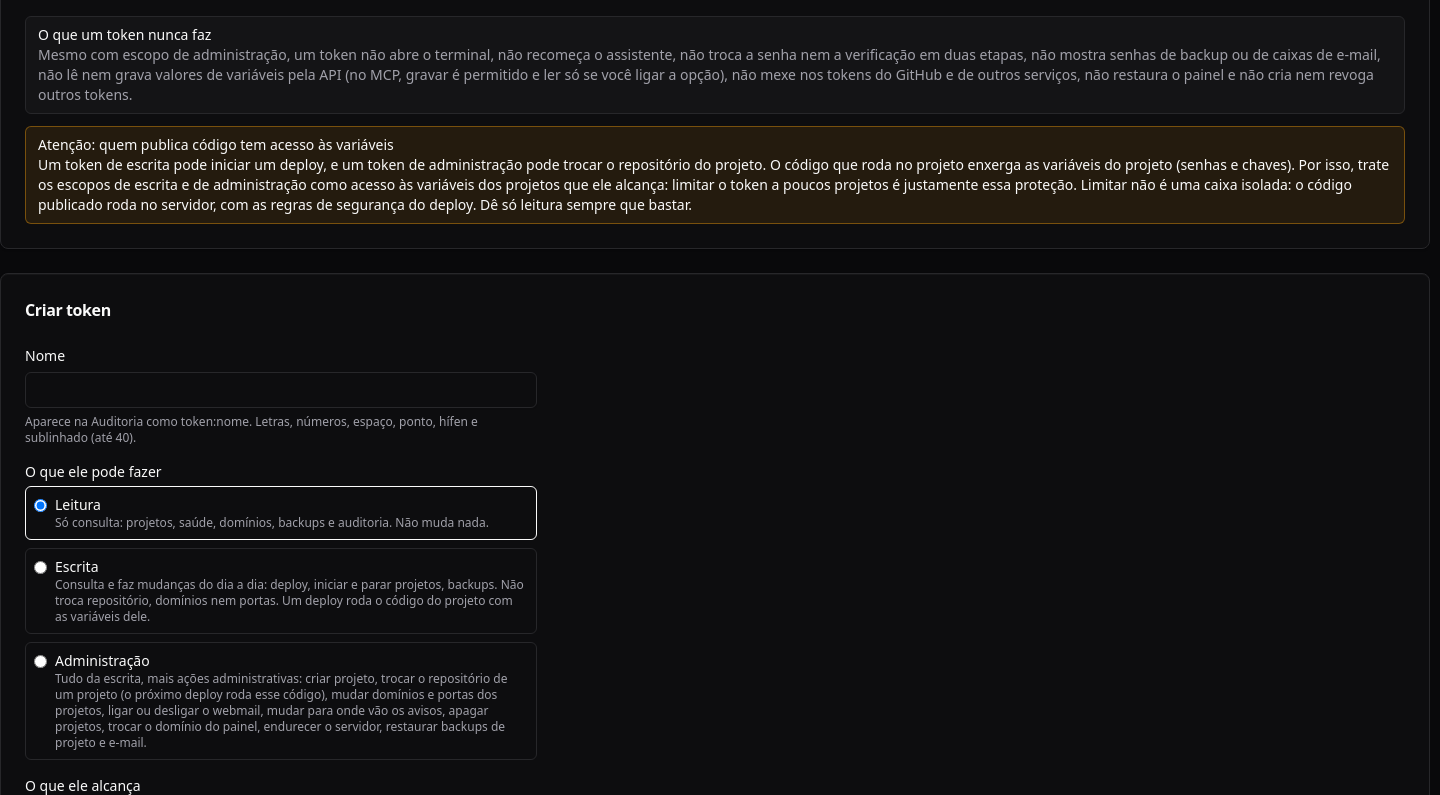
Configurações → Acesso por IA › validade padrão: 30 dias
The width and height of the screenshot is (1440, 795).
(page scrolled)
In the field labelled "Nome": (281, 390) [25, 372, 537, 408], type "meu-assistente"
(page scrolled)
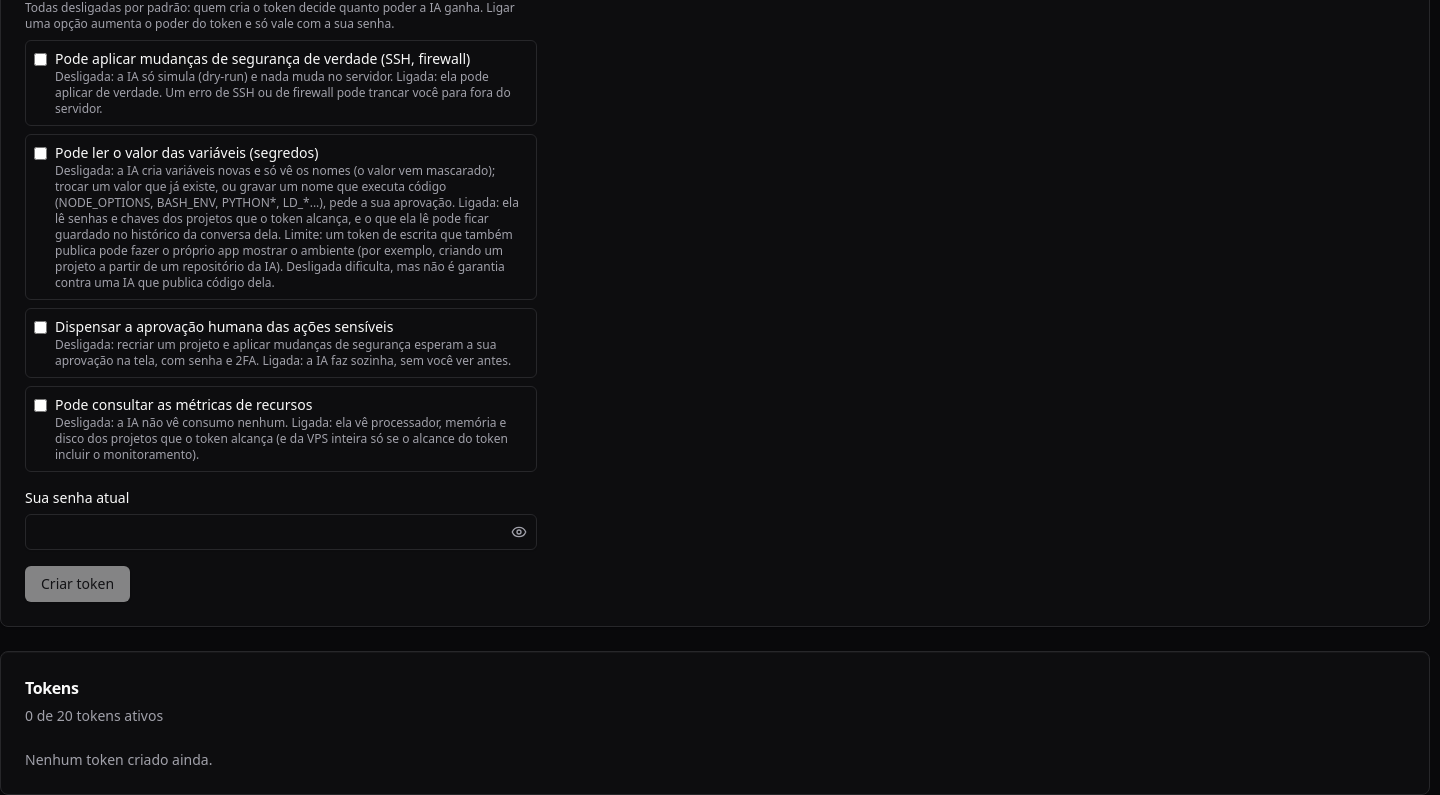
In the password field labelled "Sua senha atual": (281, 532) [25, 514, 537, 550], type "MinhaSenha123"
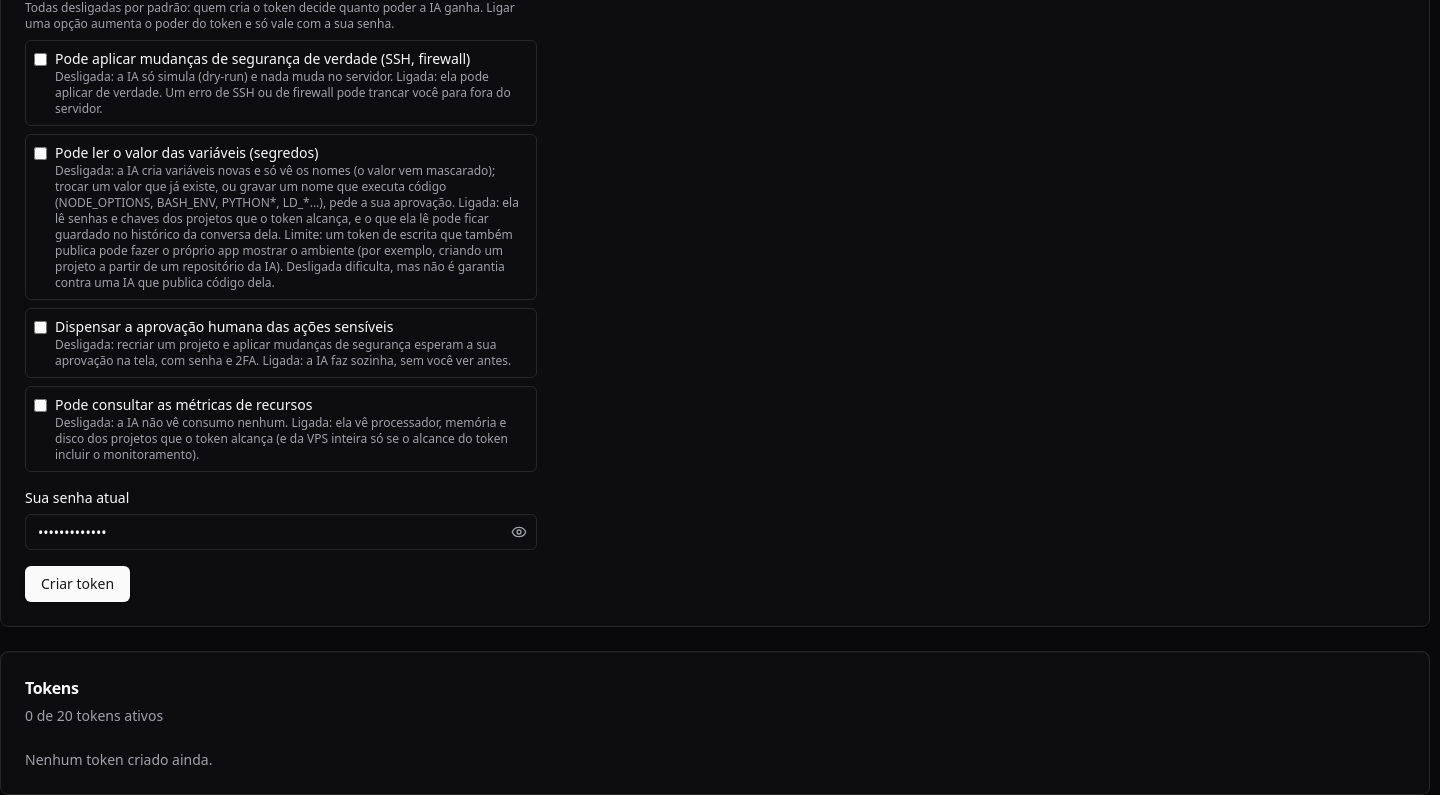
Click the button "Criar token": click(78, 584) [25, 566, 130, 602]
(page scrolled)
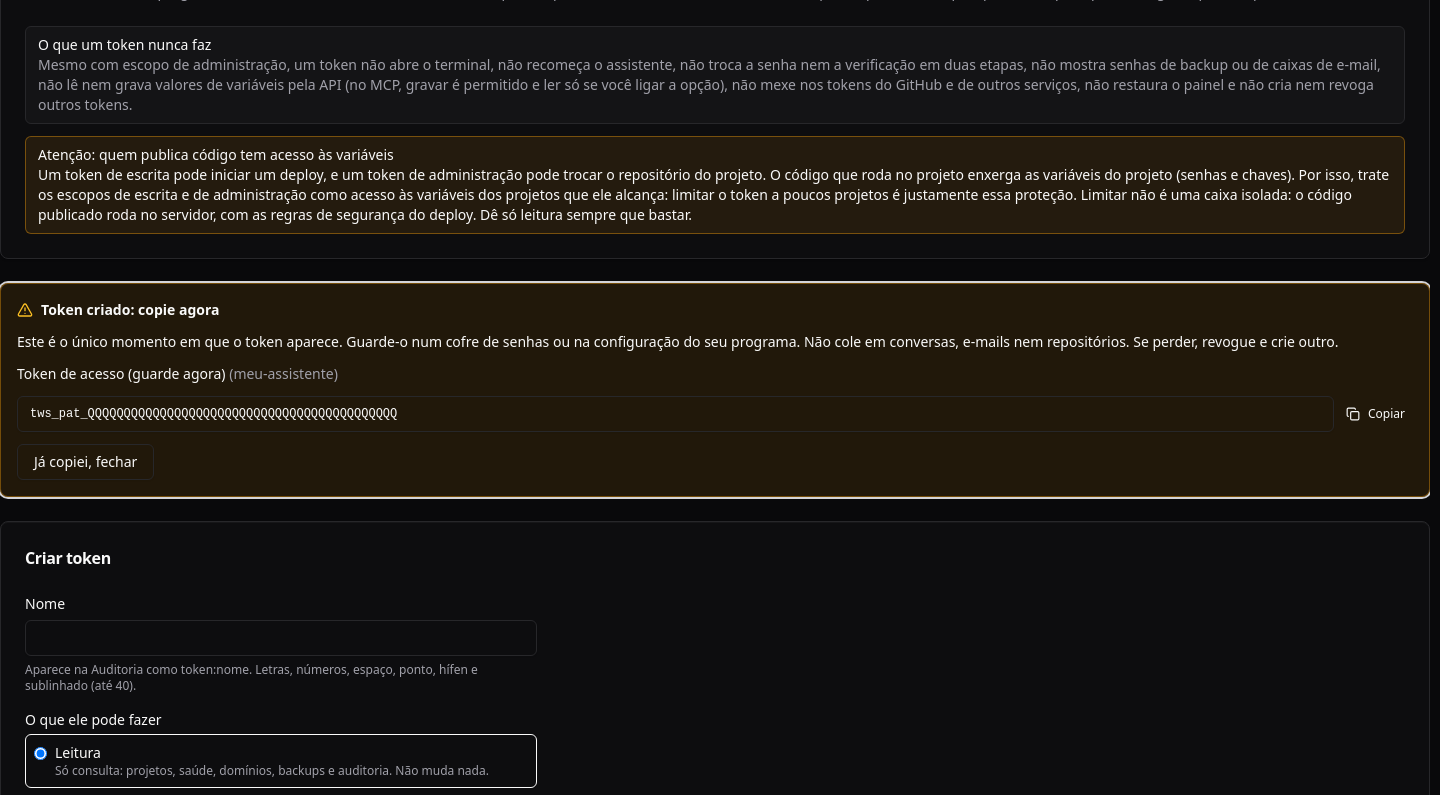
Expected: the message with test id "api-token-created" is shown, [0, 283, 1430, 497]
